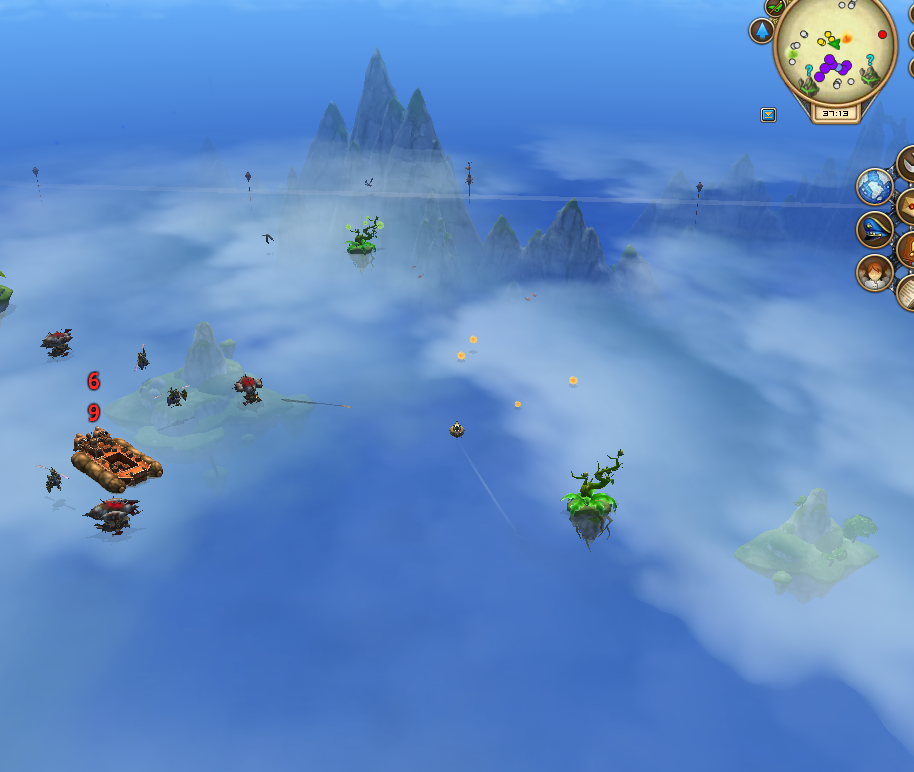dandelion-empty: (553, 445, 630, 544)
dandelion-full: (342, 209, 385, 268)
fluff: (567, 375, 581, 386), (454, 350, 467, 361), (467, 334, 479, 345), (513, 398, 523, 408)
